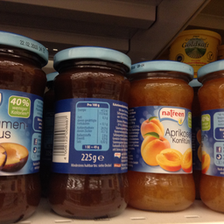jam: (49, 47, 133, 221), (127, 61, 196, 213), (1, 31, 49, 224), (196, 58, 223, 215)
